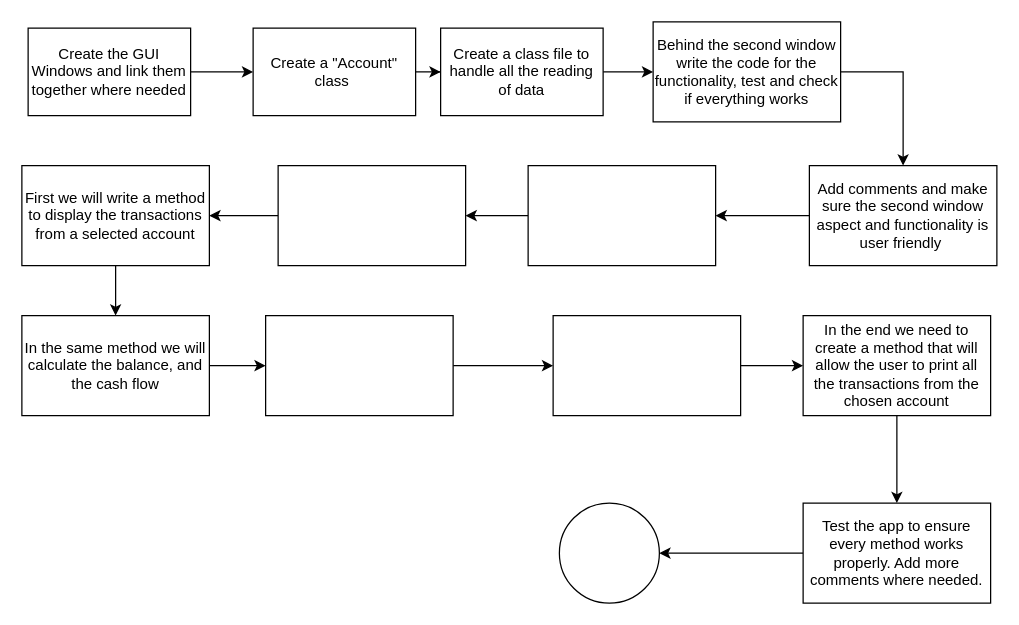
The diagram is 1019 pixels wide and 625 high, and some of its shapes have lost their labels. The centre of each missing label's shape, as x and y in pixels:
Create a "Transaction" class: (x=621, y=215)
END: (x=608, y=552)
Ensure the method can be called even if a filter is used to sort: (x=358, y=365)
Now work on 2 filters to sort the transactions either by date or by reason: (x=646, y=365)
Write and test each method one by one: (x=371, y=215)
